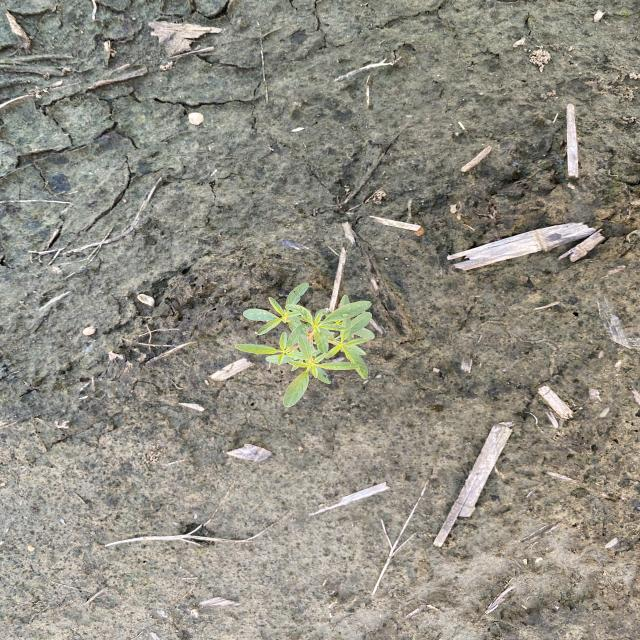Waterhemp: (232, 281, 379, 409)
